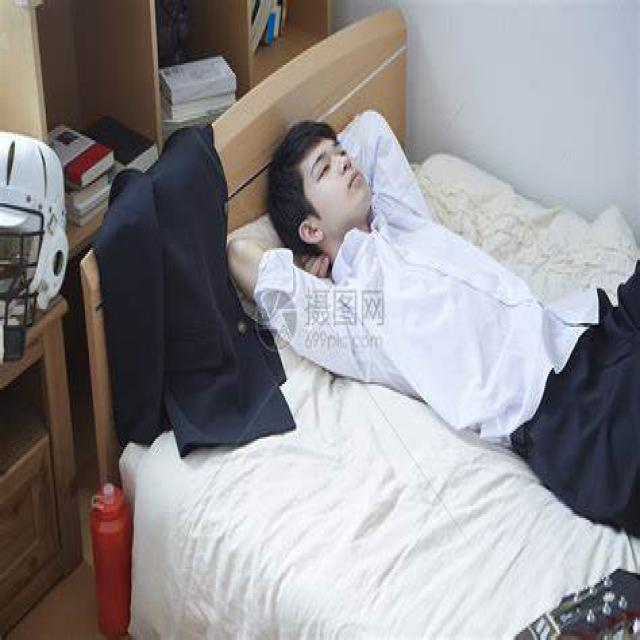lie: (236, 104, 640, 530)
